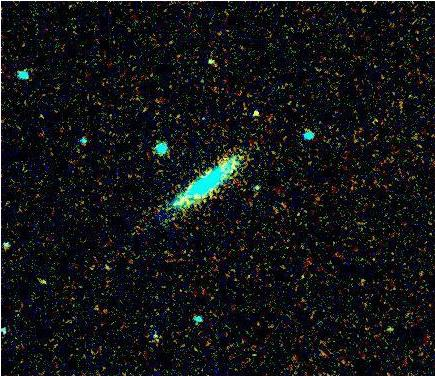star: (241, 103, 271, 133)
